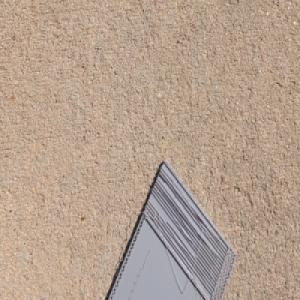PlasticPart: (103, 159, 238, 300)
